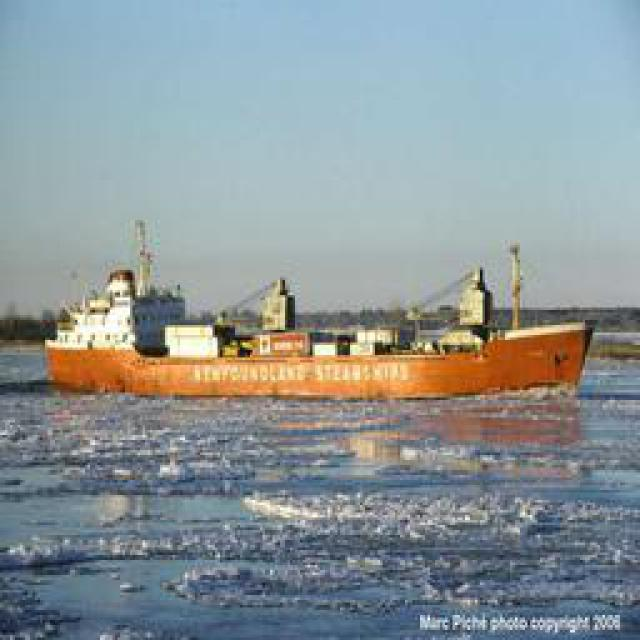Ship: (39, 309, 599, 404)
